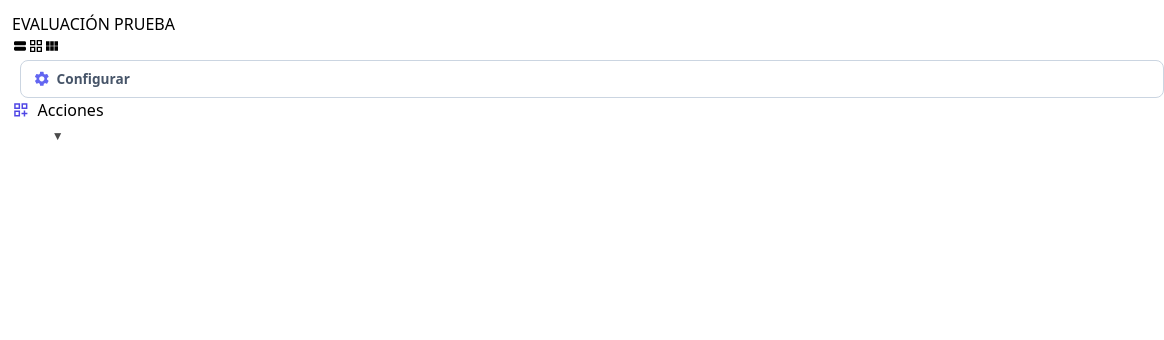
Test: HeaderControlesReporte - Menú Acciones y Permisos de Especialistas › muestra la sección de PERMISOS ESPECIALISTAS solo para el Administrador
This screenshot has width=1164, height=340.
Expected: the text "Permisos Especialistas" is not shown
// Abrir el dropdown de acciones
Click the button "Acciones ▼". click: coordinates (58, 122)
box: x1=12 y1=98 x2=104 y2=146
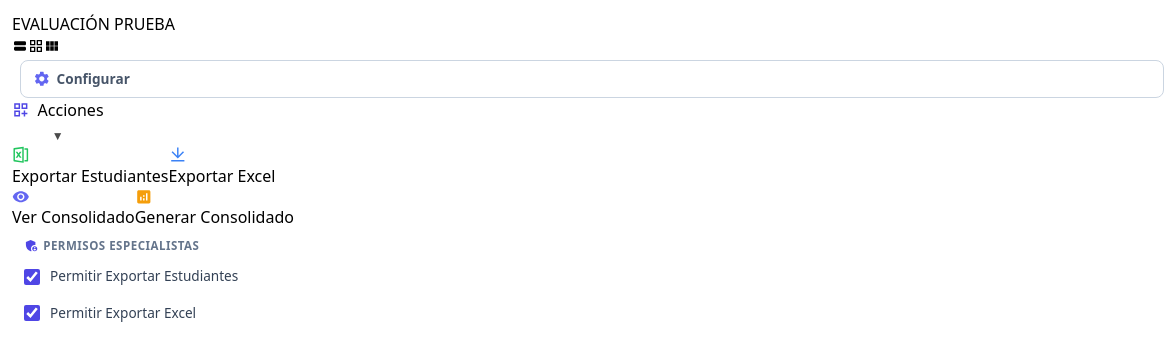
Expected: the text "Permisos Especialistas" is shown, x1=43 y1=237 x2=199 y2=254
Expected: the text "Permitir Exportar Estudiantes" is shown, x1=50 y1=266 x2=238 y2=287
Expected: the text "Permitir Exportar Excel" is shown, x1=50 y1=303 x2=196 y2=323
